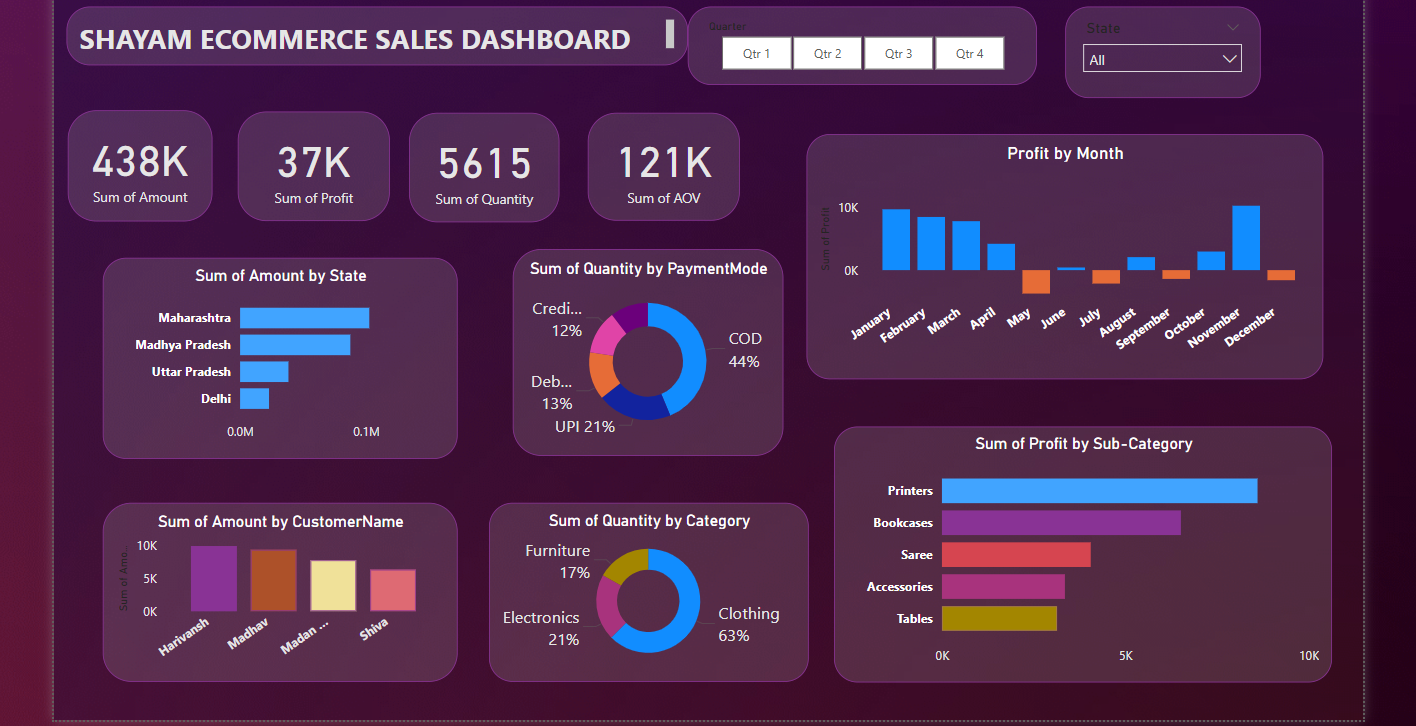

The dashboard page shown, as its layout file describes it:
{"tool":"powerbi","page":{"name":"Page 1","canvas":[1280,720],"ordinal":0},"visuals":[{"type":"columnChart","title":"Profit by Month","fields":{"Category":["Orders.Order Date.Variation.Date Hierarchy.Month"],"Y":["Sum(Details.Profit)"]},"box":[736.5,147.3,505.2,240.1],"z":0},{"type":"barChart","fields":{"Category":["Details.Sub-Category"],"Y":["Sum(Details.Profit)"]},"box":[763,433,487.5,250.4],"z":1000},{"type":"donutChart","fields":{"Category":["Details.Category"],"Y":["Sum(Details.Quantity)"]},"box":[425.2,507.7,312.4,175],"z":2000},{"type":"donutChart","fields":{"Y":["Sum(Details.Quantity)"],"Category":["Details.PaymentMode"]},"box":[448.4,258.9,264.7,202.5],"z":3000},{"type":"card","fields":{"Values":["Sum(Details.Amount)"]},"box":[13,122.9,141.7,108.5],"z":4000},{"type":"card","fields":{"Values":["Sum(Details.Profit)"]},"box":[179.3,124.4,149,107],"z":5000},{"type":"card","fields":{"Values":["Sum(Details.Quantity)"]},"box":[347.1,125.8,147.5,107],"z":6000},{"type":"card","fields":{"Values":["Sum(Details.AOV)"]},"box":[522.1,125.8,149,105.6],"z":7000},{"type":"barChart","fields":{"Category":["Orders.State"],"Y":["Sum(Details.Amount)"]},"box":[47.7,267.6,347.1,196.7],"z":8000},{"type":"columnChart","fields":{"Category":["Orders.CustomerName"],"Y":["Sum(Details.Amount)"]},"box":[48,508,347,175],"z":9000},{"type":"textbox","box":[12.2,22,607.7,57.5],"z":10000},{"type":"slicer","fields":{"Values":["Orders.Order Date.Variation.Date Hierarchy.Quarter"]},"box":[620.5,21.7,341.3,76.7],"z":11000},{"type":"slicer","fields":{"Values":["Orders.State"]},"box":[989.3,21.7,190.9,89.7],"z":12001}]}

Visuals, with their boxes on the page's 1280x720 design canvas (x1, y1, x2, y2). These are canvas units, not pixel positions in the 1416x726 screenshot, which may show the page scaled, cropped or inside an application window:
"Profit by Month" columnChart: Rect(736, 147, 1242, 387)
barChart - Details.Sub-Category x Sum(Details.Profit): Rect(763, 433, 1250, 683)
donutChart - Details.Category x Sum(Details.Quantity): Rect(425, 508, 738, 683)
donutChart - Sum(Details.Quantity) x Details.PaymentMode: Rect(448, 259, 713, 461)
card - Sum(Details.Amount): Rect(13, 123, 155, 231)
card - Sum(Details.Profit): Rect(179, 124, 328, 231)
card - Sum(Details.Quantity): Rect(347, 126, 495, 233)
card - Sum(Details.AOV): Rect(522, 126, 671, 231)
barChart - Orders.State x Sum(Details.Amount): Rect(48, 268, 395, 464)
columnChart - Orders.CustomerName x Sum(Details.Amount): Rect(48, 508, 395, 683)
textbox: Rect(12, 22, 620, 80)
slicer - Orders.Order Date.Variation.Date Hierarchy.Quarter: Rect(620, 22, 962, 98)
slicer - Orders.State: Rect(989, 22, 1180, 111)
